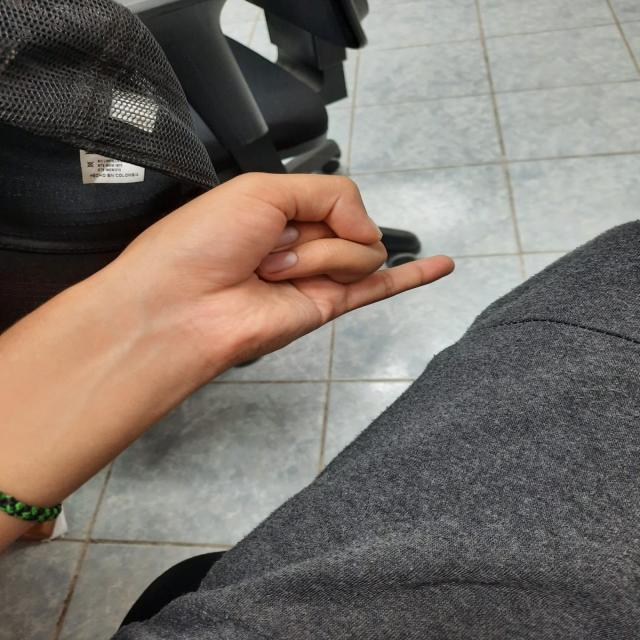Z: (92, 137, 494, 399)
